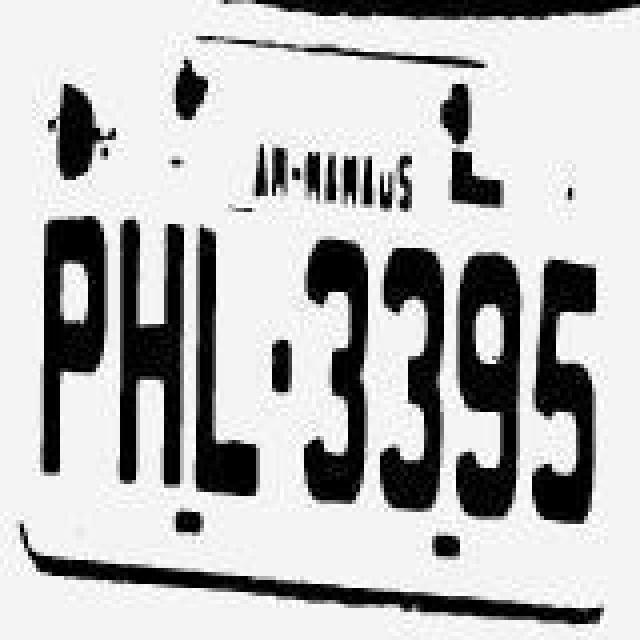3: (290, 224, 374, 544), (372, 234, 452, 526)
5: (524, 254, 620, 546)
9: (444, 246, 532, 522)
H: (112, 202, 192, 510)
L: (192, 222, 272, 506)
P: (28, 210, 116, 486)
